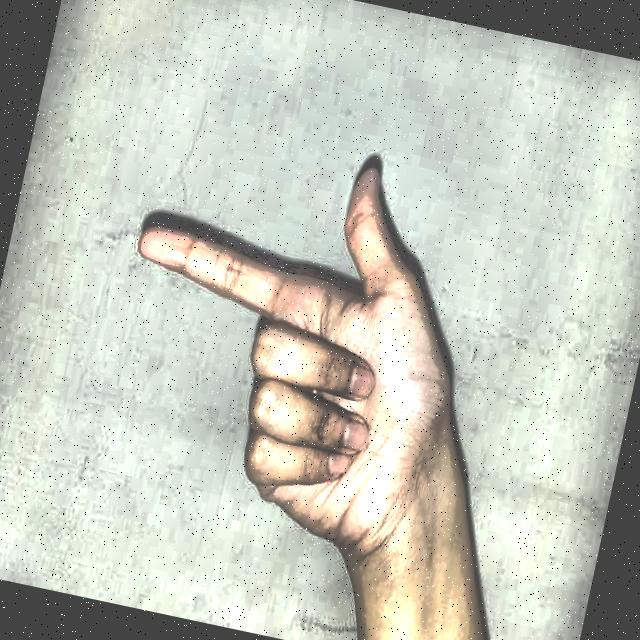Tho: (61, 78, 584, 603)
